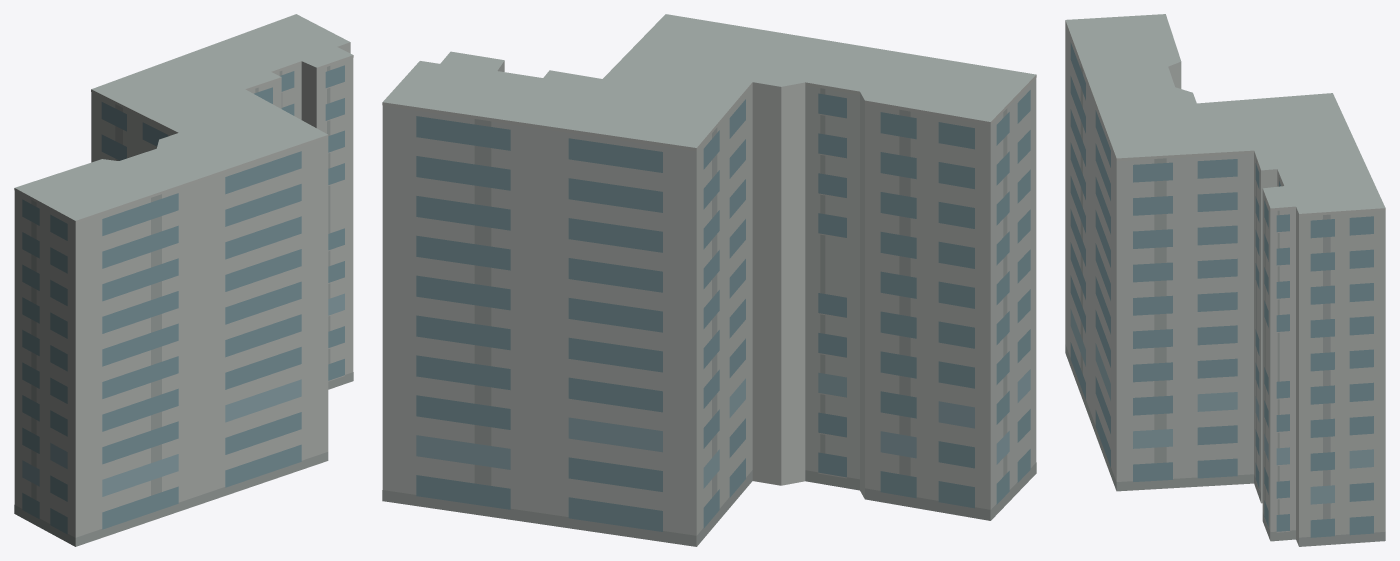
The model's file is survey-upis-32801389.glb.
3 views of the same model, side by side, from view 1: azimuth 30°, elevation 25°; view 2: azimuth 150°, elevation 25°; view 3: azimuth 270°, elevation 25° (orthographic). The views are drawn at different scales.
Parts seen in each view (by area): view 1: survey-upis-32801389.tmp; view 2: survey-upis-32801389.tmp; view 3: survey-upis-32801389.tmp.
Boxes of the visible parts, x1,y1,x2,y2 form: survey-upis-32801389.tmp: (14,14,353,546); survey-upis-32801389.tmp: (382,14,1036,546); survey-upis-32801389.tmp: (1065,14,1385,546).
Size of the model in its own units: 38.66 by 30 by 26.17.
